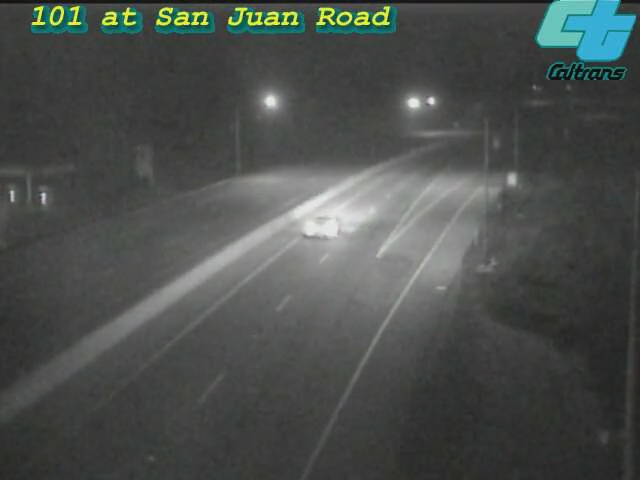vehicle: (278, 189, 358, 269)
